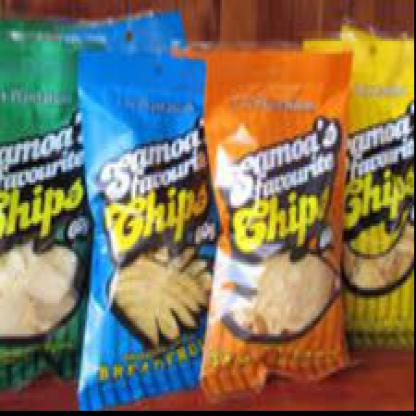potatochip: (77, 45, 235, 413), (199, 49, 360, 399), (0, 28, 114, 399), (300, 32, 415, 347)
